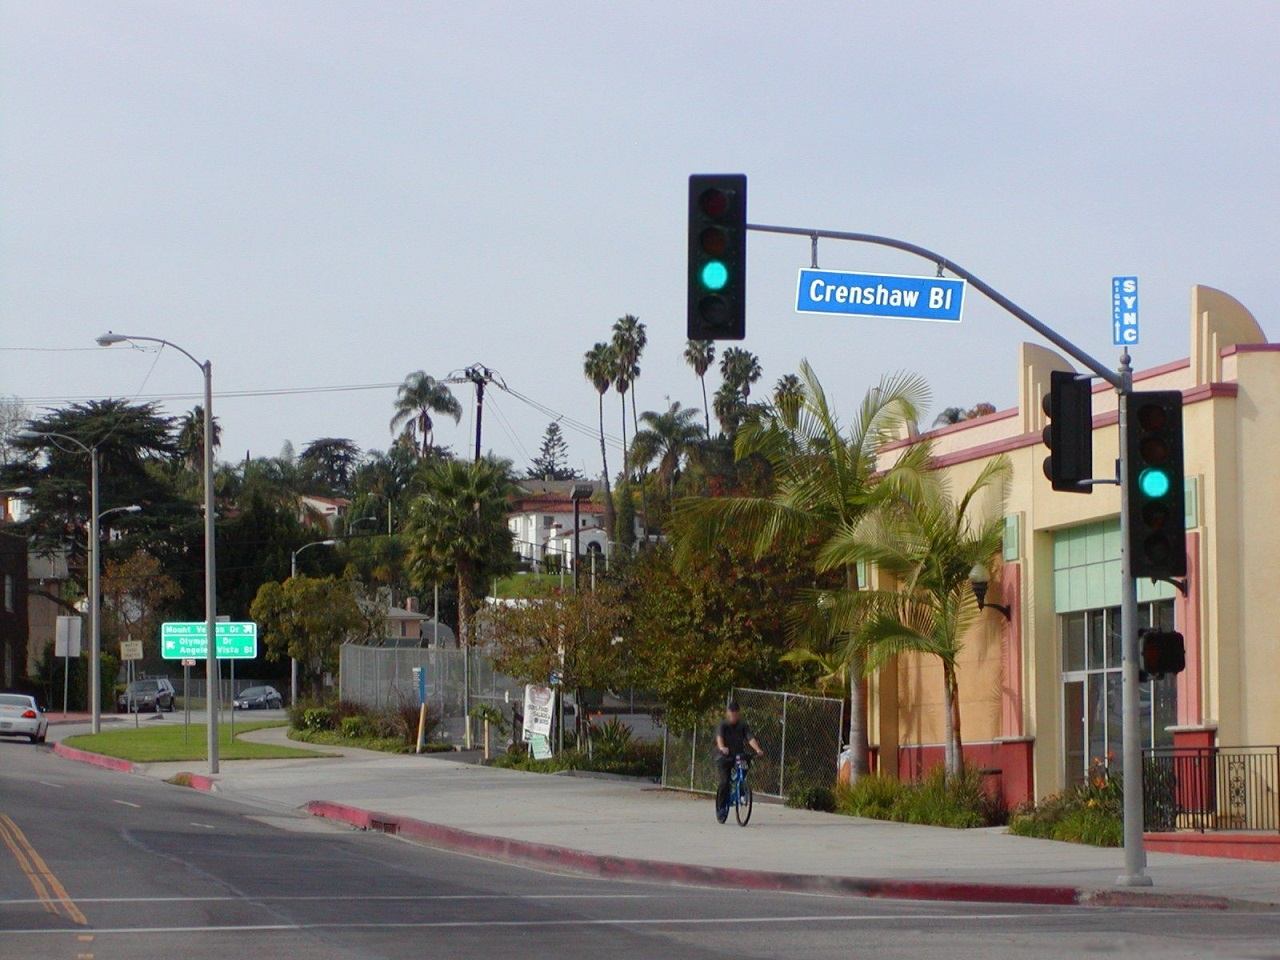traffic_light: (1124, 389, 1189, 580), (685, 172, 750, 343)
